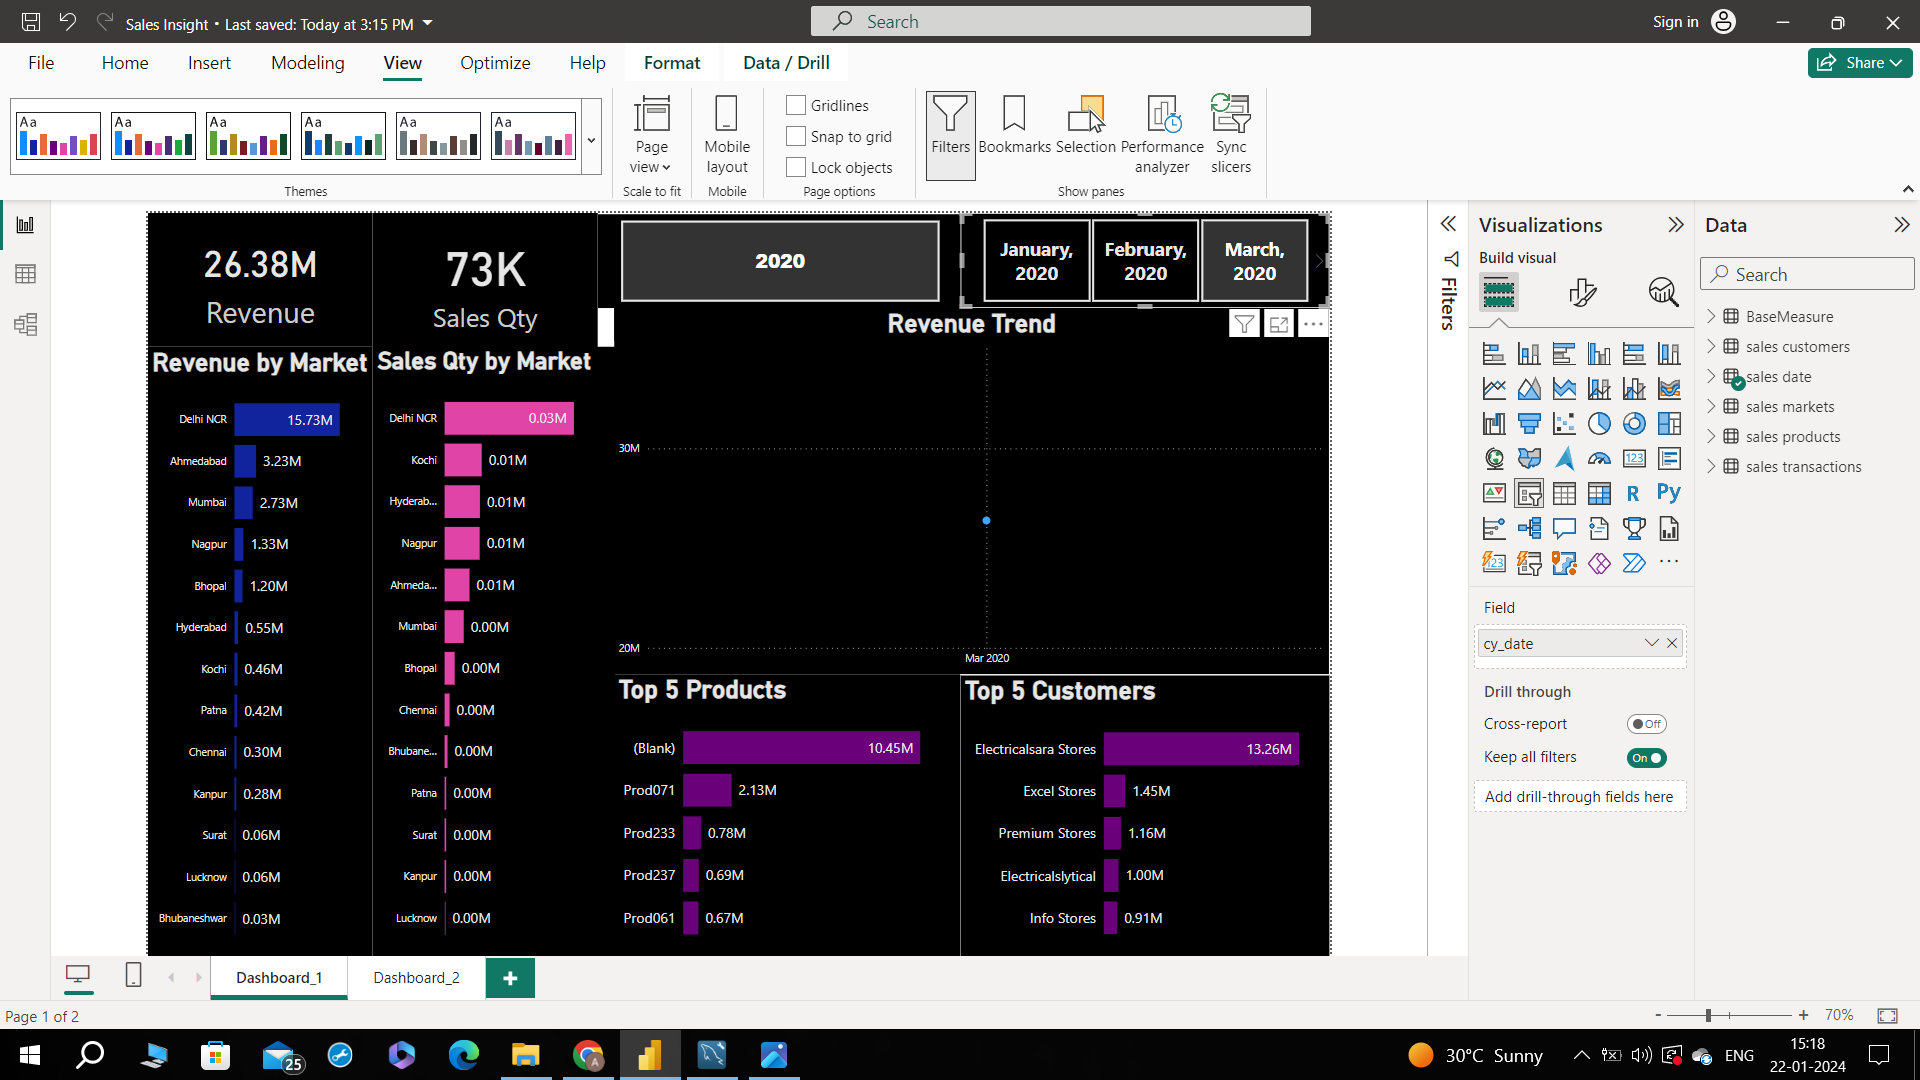

The page's visual inventory and layout, read from the dashboard file:
{"tool":"powerbi","page":{"name":"Dashboard_1","canvas":[1350,850],"ordinal":0},"visuals":[{"type":"card","fields":{"Values":["BaseMeasure.Revenue"]},"box":[0,0,257.1,152.9],"z":0},{"type":"card","fields":{"Values":["BaseMeasure.Sales Qty"]},"box":[256.7,0,256.7,153.3],"z":1000},{"type":"barChart","title":"Revenue by Market","fields":{"Y":["BaseMeasure.Revenue"],"Category":["sales markets.markets_name"]},"box":[0,152.9,257.1,697.1],"z":2000},{"type":"barChart","title":"Sales Qty by Market","fields":{"Y":["BaseMeasure.Sales Qty"],"Category":["sales markets.markets_name"]},"box":[256.7,153.3,276.7,696.7],"z":3000},{"type":"slicer","title":"Year","fields":{"Values":["sales date.year"]},"box":[514.3,1.4,414.3,107.1],"z":4000},{"type":"slicer","fields":{"Values":["sales date.cy_date"]},"box":[928.6,0,421.4,108.6],"z":5000},{"type":"barChart","title":"Top 5 Customers","fields":{"Y":["BaseMeasure.Revenue"],"Category":["sales customers.custmer_name"]},"box":[928.6,528.6,421.4,321.4],"z":6000},{"type":"barChart","title":"Top 5 Products","fields":{"Y":["BaseMeasure.Revenue"],"Category":["sales products.product_code"]},"box":[533.3,526.7,395,323.3],"z":7000},{"type":"lineChart","title":"Revenue Trend","fields":{"Y":["BaseMeasure.Revenue"],"Category":["sales date.cy_date"]},"box":[532.9,108.6,817.1,418.6],"z":8000}]}

Visuals, with their boxes on the page's 1350x850 design canvas (x1, y1, x2, y2). These are canvas units, not pixel positions in the 1920x1080 screenshot, which may show the page scaled, cropped or inside an application window:
card - BaseMeasure.Revenue: bbox=[0, 0, 257, 153]
card - BaseMeasure.Sales Qty: bbox=[257, 0, 513, 153]
"Revenue by Market" barChart: bbox=[0, 153, 257, 850]
"Sales Qty by Market" barChart: bbox=[257, 153, 533, 850]
"Year" slicer: bbox=[514, 1, 929, 108]
slicer - sales date.cy_date: bbox=[929, 0, 1350, 109]
"Top 5 Customers" barChart: bbox=[929, 529, 1350, 850]
"Top 5 Products" barChart: bbox=[533, 527, 928, 850]
"Revenue Trend" lineChart: bbox=[533, 109, 1350, 527]
